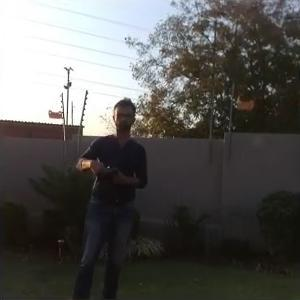follow: (69, 88, 154, 298)
